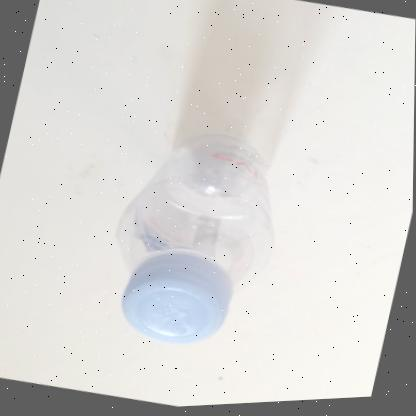Plastic: (116, 134, 273, 344)
